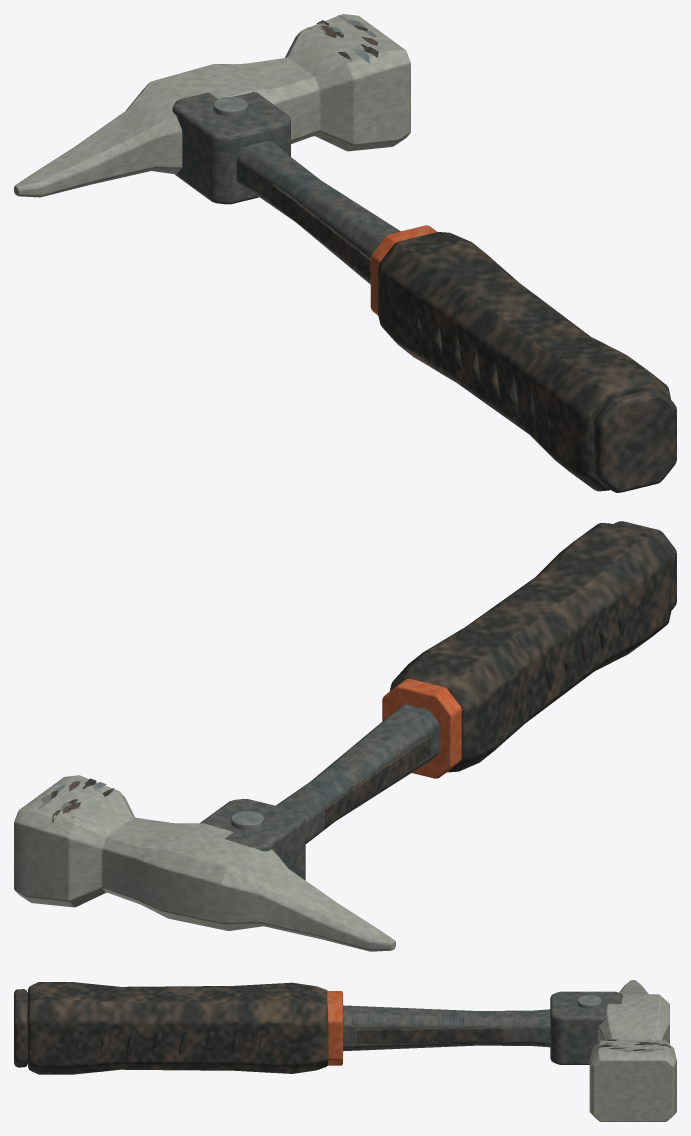
File: rock_hammer.glb
The picture shows the model from 3 angles, top to bottom: view 1: azimuth 30°, elevation 25°; view 2: azimuth 150°, elevation 25°; view 3: azimuth 270°, elevation 25°; orthographic projection. The views are drawn at different scales.
Visible parts, largest first — view 1: Pressure_glove_grip_black_rubber, Head, Forged_handle_eye_dark_alloy, Machined_butt_plate_graphite, Through_tang_dark_alloy, Shaft_flat_graphite, Orange_grip_collar_orange; view 2: Head, Pressure_glove_grip_black_rubber, Through_tang_dark_alloy, Forged_handle_eye_dark_alloy, Orange_grip_collar_orange, Shaft_flat_graphite, Machined_butt_plate_graphite; view 3: Pressure_glove_grip_black_rubber, Head, Through_tang_dark_alloy, Forged_handle_eye_dark_alloy, Shaft_flat_graphite.001, Orange_grip_collar_orange, Machined_butt_plate_graphite, Tang_lock_pin_alloy.
Boxes of the visible parts, x1,y1,x2,y2 form: Pressure_glove_grip_black_rubber: (378, 232, 670, 491); Head: (14, 14, 410, 197); Forged_handle_eye_dark_alloy: (172, 91, 290, 204); Machined_butt_plate_graphite: (594, 388, 676, 492); Through_tang_dark_alloy: (236, 141, 400, 284); Shaft_flat_graphite: (271, 184, 370, 279); Orange_grip_collar_orange: (370, 225, 436, 315); Head: (14, 775, 395, 951); Pressure_glove_grip_black_rubber: (390, 523, 671, 772); Through_tang_dark_alloy: (276, 704, 439, 843); Forged_handle_eye_dark_alloy: (200, 799, 305, 880); Orange_grip_collar_orange: (382, 678, 461, 778); Shaft_flat_graphite: (324, 736, 430, 827); Machined_butt_plate_graphite: (613, 521, 676, 610); Pressure_glove_grip_black_rubber: (28, 982, 328, 1074); Head: (589, 980, 676, 1121); Through_tang_dark_alloy: (343, 1005, 550, 1051); Forged_handle_eye_dark_alloy: (550, 991, 623, 1064); Shaft_flat_graphite.001: (357, 1027, 503, 1043); Orange_grip_collar_orange: (327, 991, 342, 1065); Machined_butt_plate_graphite: (14, 989, 27, 1067); Tang_lock_pin_alloy: (577, 995, 601, 1008).
Bounding box in the file's own units: 0.17 × 0.048 × 0.379.
Materials: 6 (6 with a texture image).
